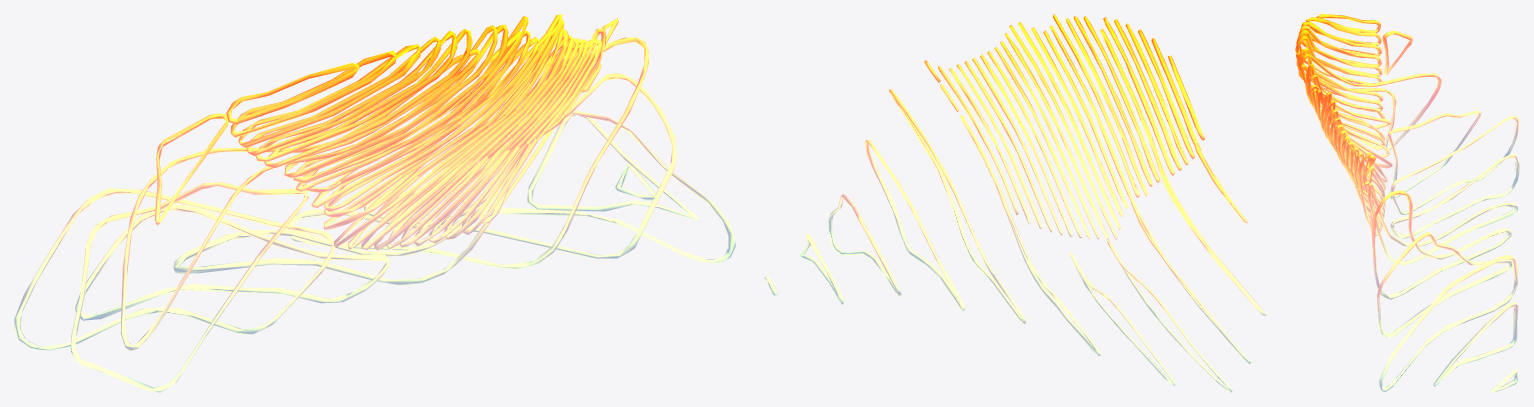
File: sjsoc-neon-v68.glb
The picture shows the model from 3 angles, left to right: view 1: azimuth 30°, elevation 25°; view 2: azimuth 150°, elevation 25°; view 3: azimuth 270°, elevation 25°; orthographic projection. The views are drawn at different scales.
Visible parts, largest first — view 1: sjsoc-neon; view 2: sjsoc-neon; view 3: sjsoc-neon.
Boxes of the visible parts, bbox=[...] form: sjsoc-neon: bbox=[14, 14, 735, 392]; sjsoc-neon: bbox=[764, 14, 1266, 392]; sjsoc-neon: bbox=[1295, 14, 1519, 392].
Bounding box in the file's own units: 2.18 × 1.16 × 0.9435.
